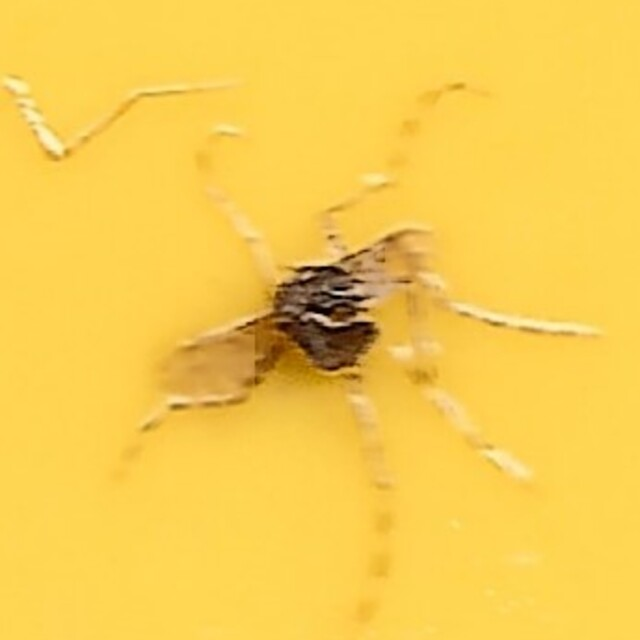Nematocera: (186, 206, 454, 434)
